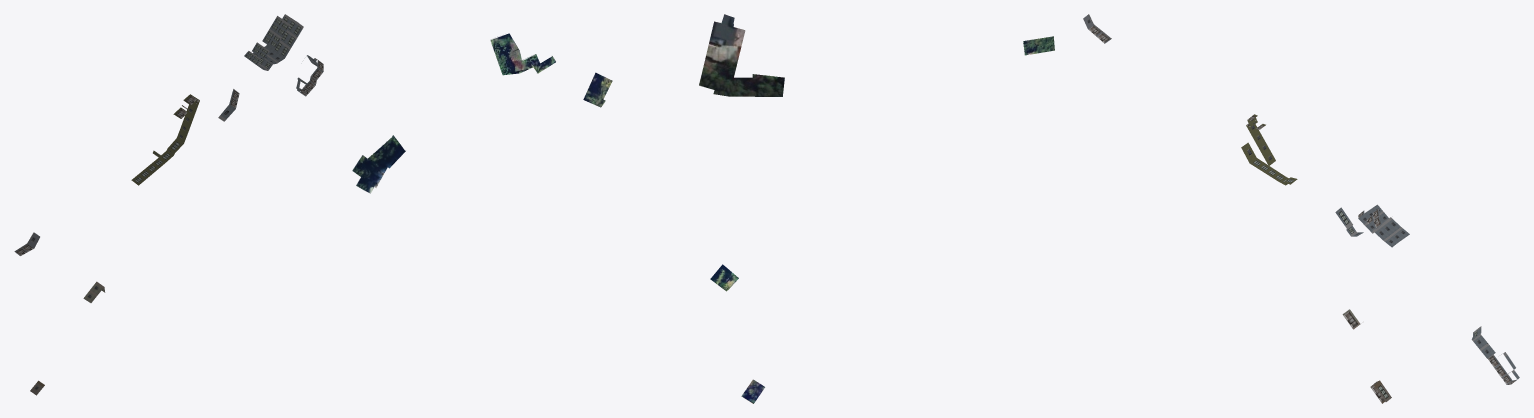
The model's file is tile_LOD8_r6_c6.glb.
3 renders of one model, left to right at view 1: azimuth 30°, elevation 25°; view 2: azimuth 150°, elevation 25°; view 3: azimuth 270°, elevation 25°, orthographic. The views are drawn at different scales.
Size of the model in its own units: 247 by 152 by 181.
Materials: 23 (23 with a texture image).
